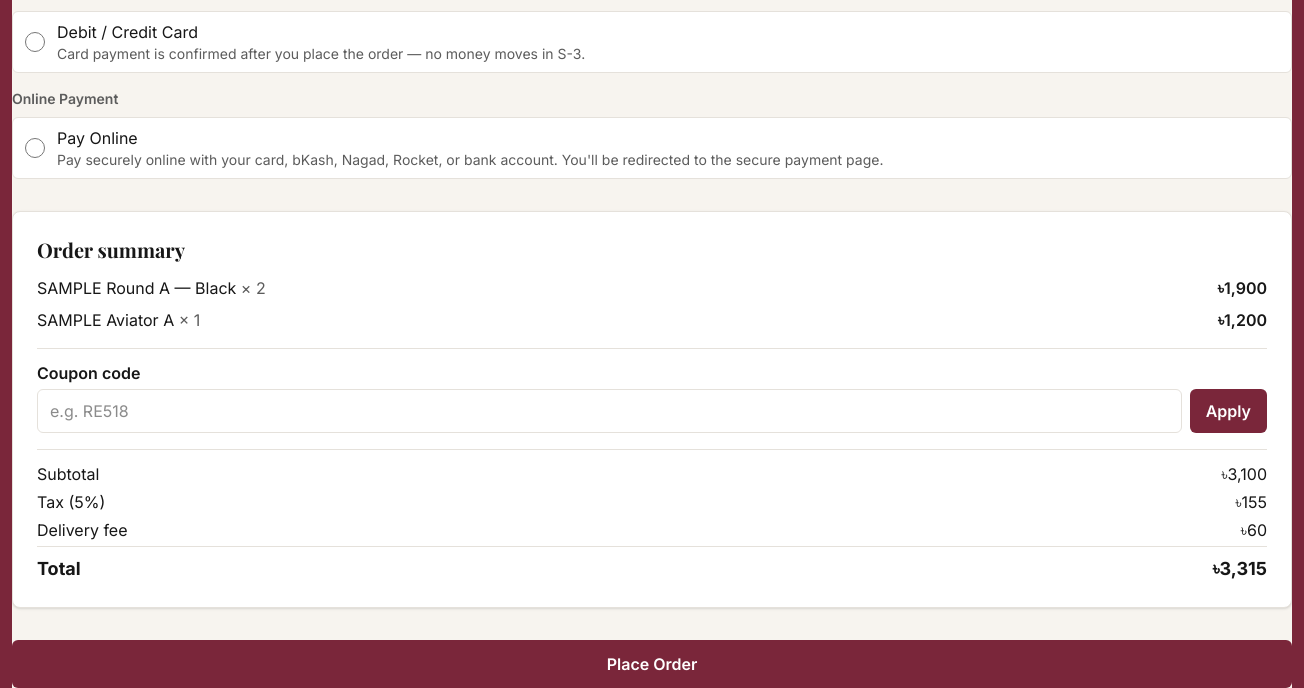
Scenario: CheckoutForm › applying a valid coupon shows the discount line and discounted total
(page scrolled)
Lowercase is uppercased on submit.
In the field labelled "Coupon code": {"x": 609, "y": 411} 37,389 -> 1182,433, type "re518"
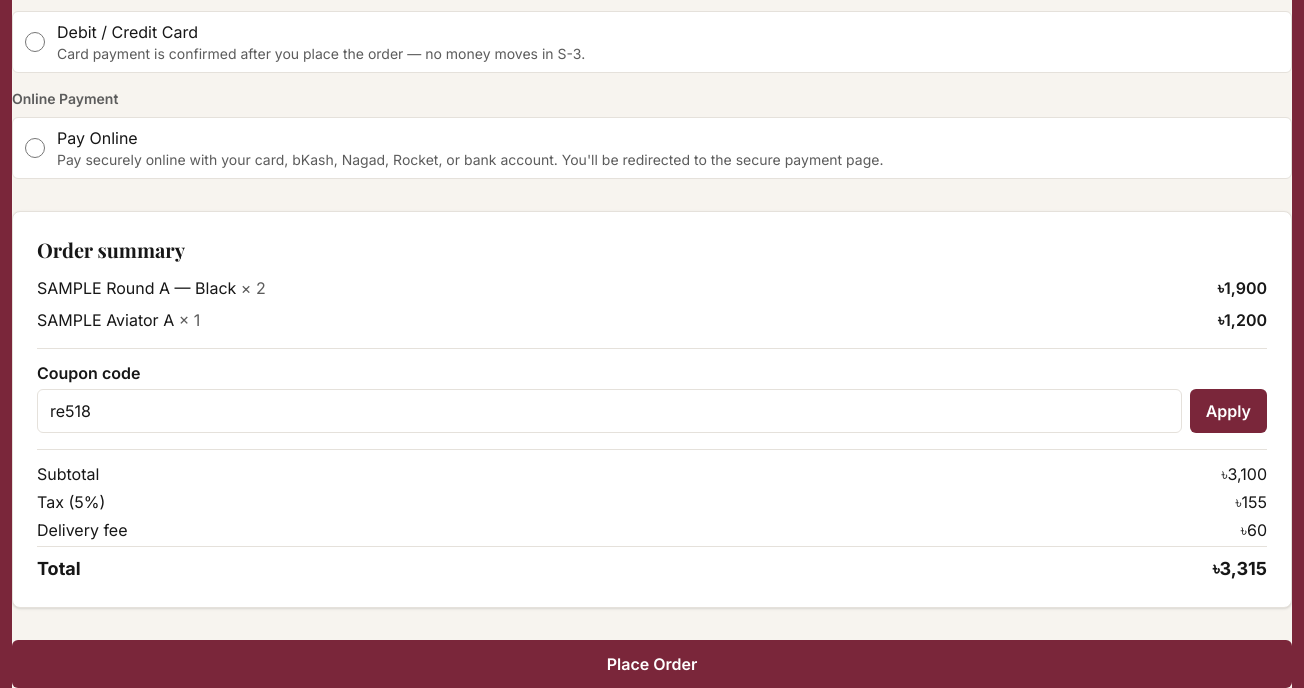
Click the button with aria-label "Apply coupon code": {"x": 1228, "y": 411} 1190,389 -> 1267,433
(page scrolled)
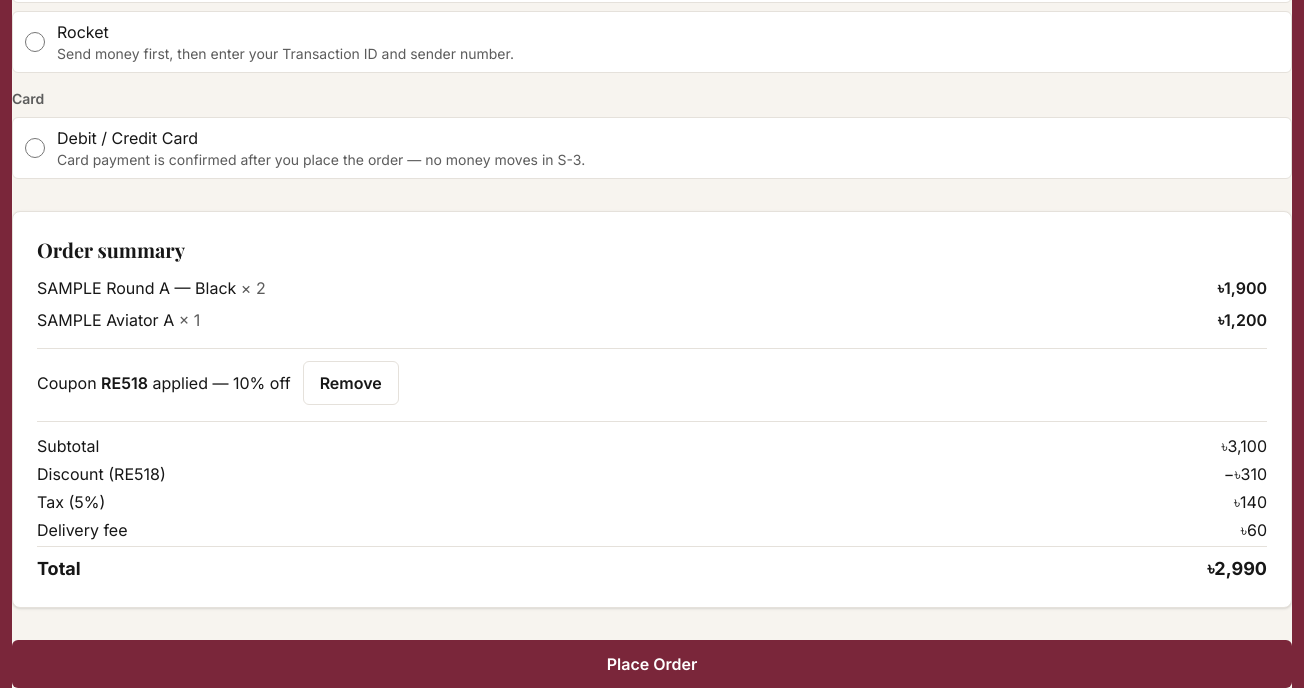
Result: the text "Discount (RE518)" is shown at 37,462 -> 166,486
Result: the text "−৳310" is shown at 1224,462 -> 1267,486
Result: the text "৳140" is shown at 1234,490 -> 1267,514
